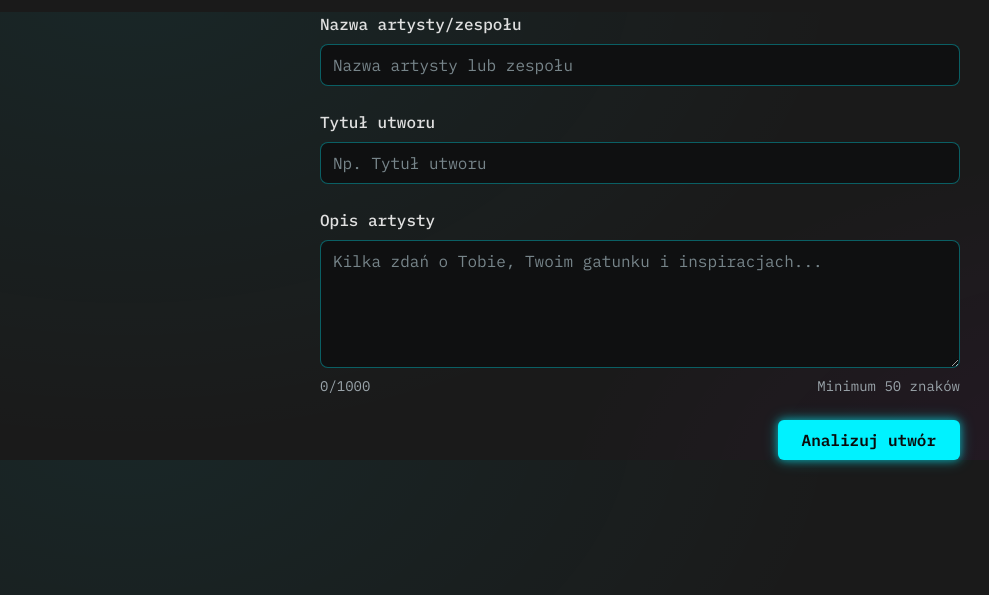
Test: ArtistForm – additional high-priority cases › only description shows error when name is filled and description left empty after blur
This screenshot has width=989, height=595.
Type "Some Artist" into the field labelled "Nazwa artysty/zespołu" at (640, 65), box [320,44,960,86]
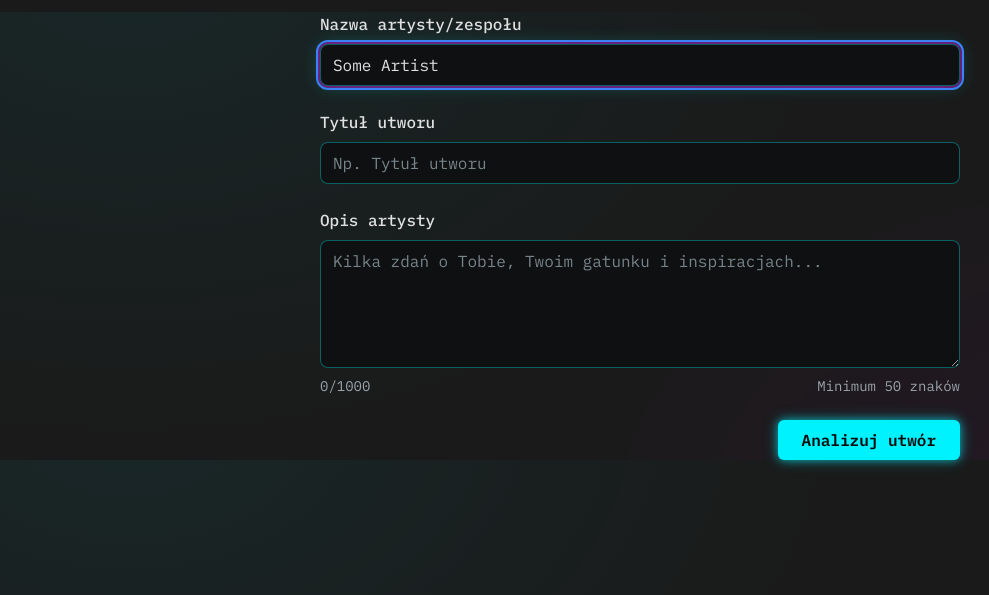
Press Tab
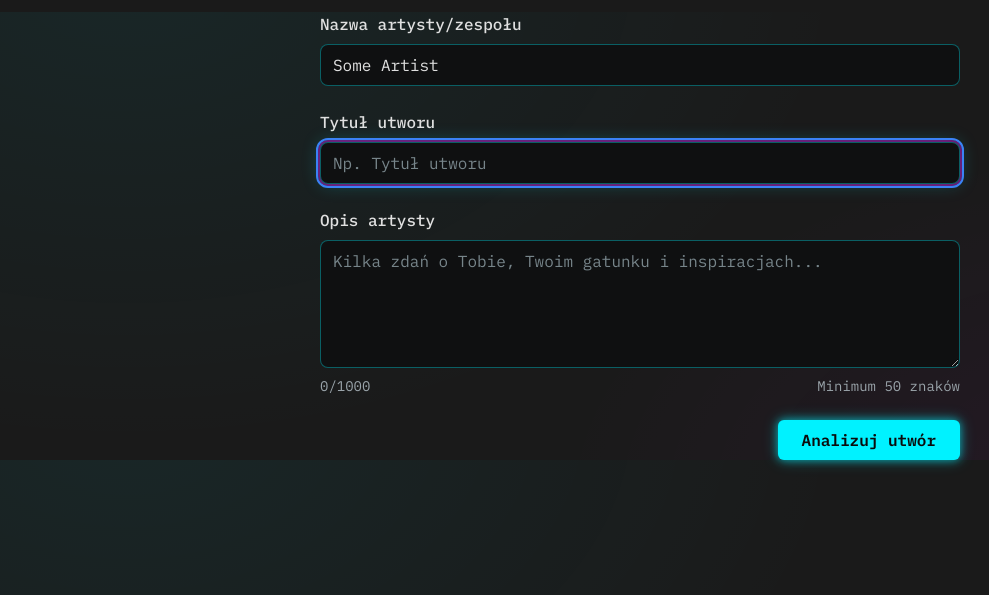
Click the text box labelled "Opis artysty" at (640, 304), box [320,240,960,368]
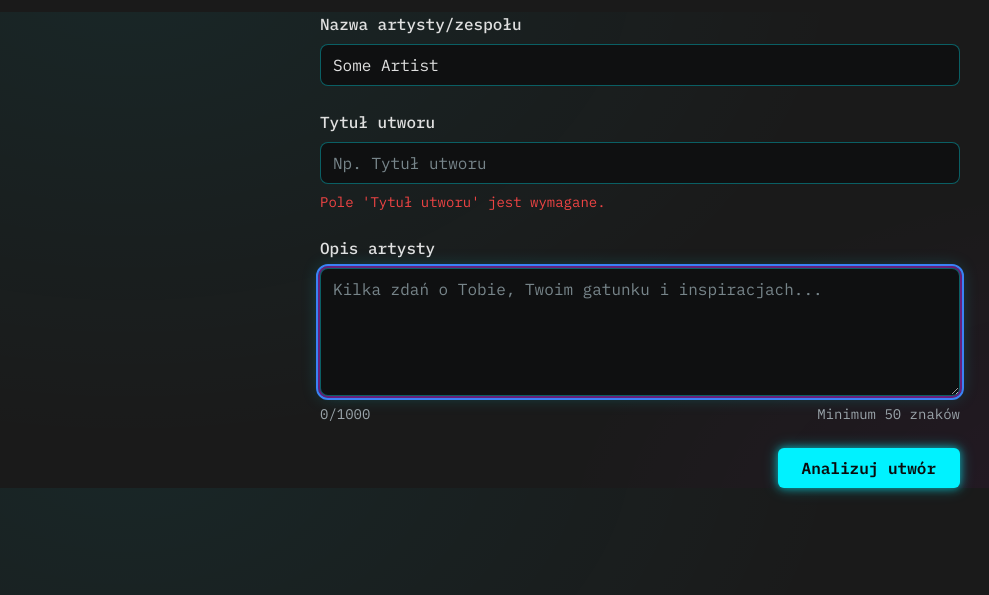
Press Tab
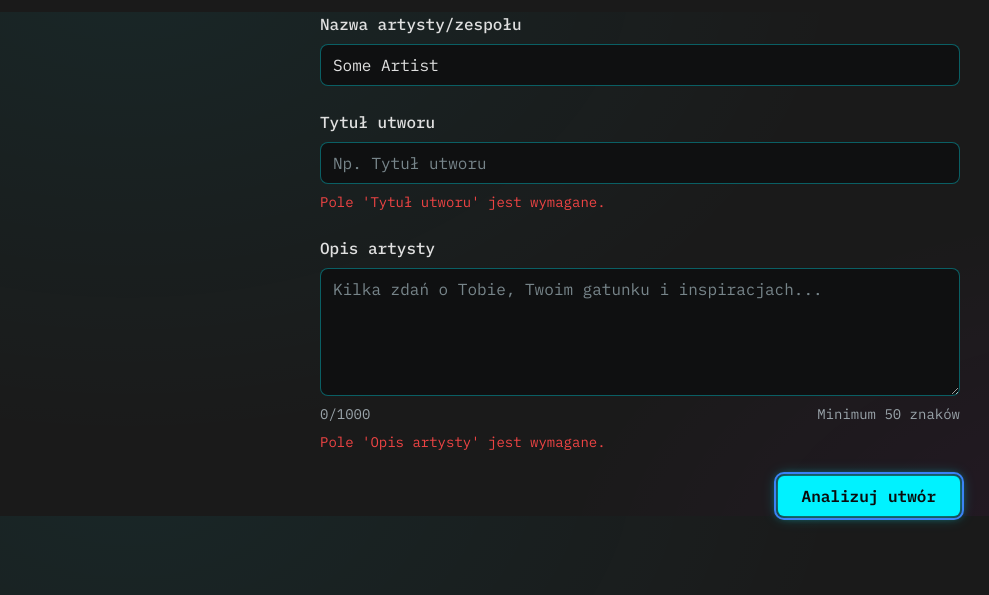
Expected: the text "Pole 'Opis artysty' jest wymagane." is shown, [320,433,606,451]
